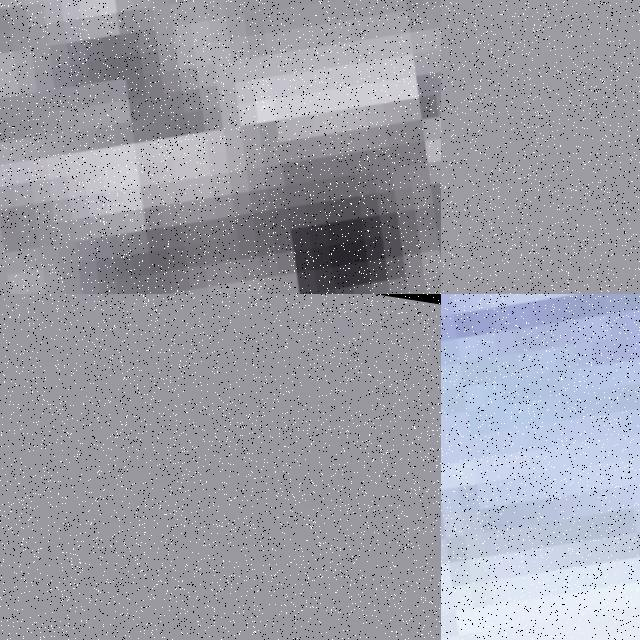0: (0, 0, 441, 294)
drone: (441, 294, 640, 640)
